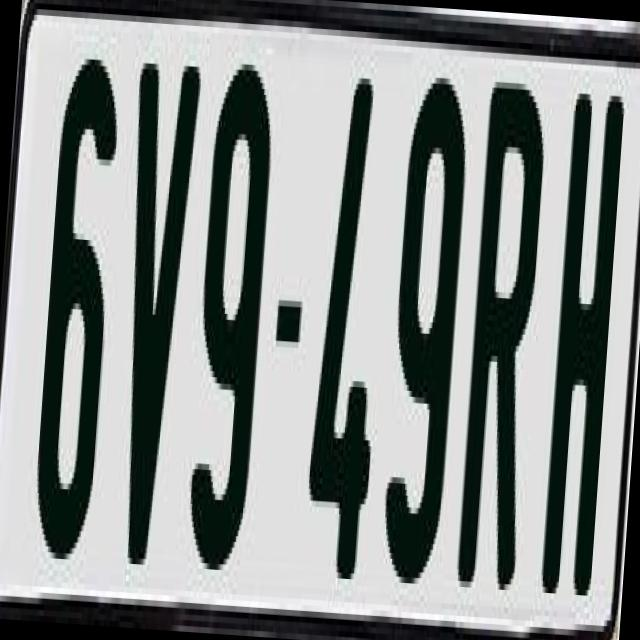4: (298, 76, 394, 614)
6: (27, 40, 122, 578)
9: (178, 62, 274, 606), (374, 64, 472, 573)
H: (538, 93, 630, 631)
R: (448, 81, 545, 625)
V: (104, 51, 202, 566)
